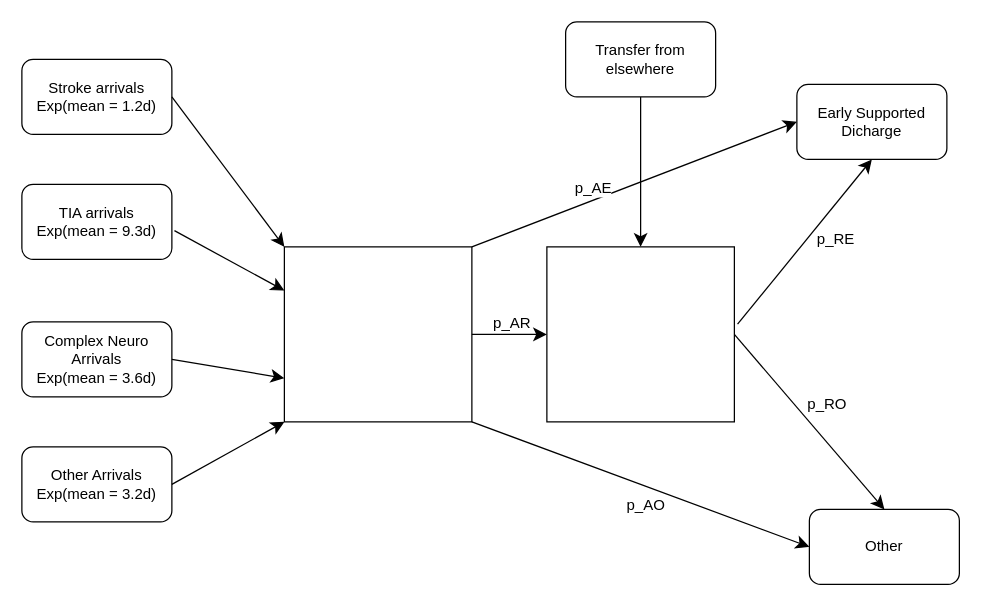
This 981x606 diagram has some shape labels left out. The shapes that lost their labels are listed below. From the top down, each one's box as (x1, y1, x2, y2) in pixels, then its label:
(283, 246, 472, 422): Acute Stroke Ward Resource(capacity = N_Acute) LOS: Lognormal( μ_a, σ_a)
(546, 246, 734, 422): Rehab Ward Resorce(capacity = N_Rehab) LOS: Lognormal( μ_r, σ_r)
